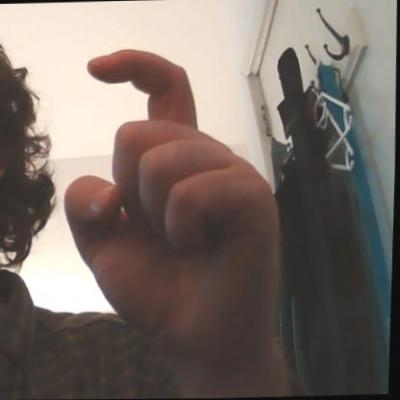hand: (58, 45, 286, 359)
